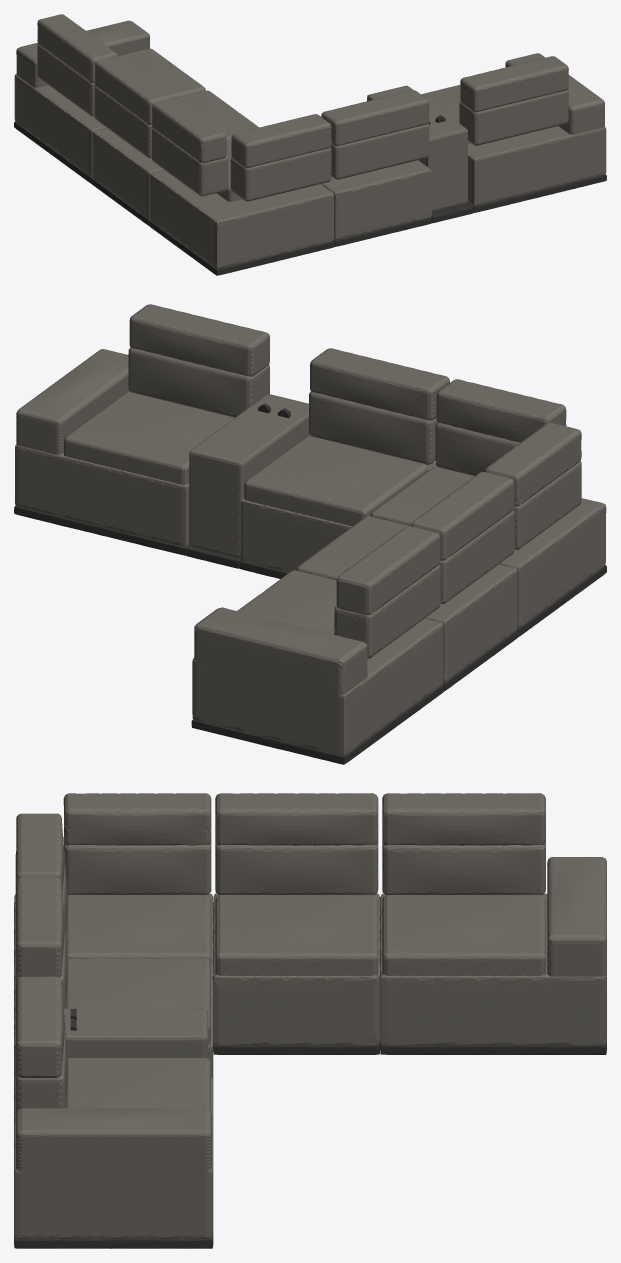
The model's file is redding.glb.
The picture shows the model from 3 angles, top to bottom: view 1: azimuth 30°, elevation 25°; view 2: azimuth 150°, elevation 25°; view 3: azimuth 270°, elevation 25°; orthographic projection. The views are drawn at different scales.
Visible parts, largest first — view 1: upholstery, accent; view 2: upholstery, accent; view 3: upholstery, accent.
Boxes of the visible parts, box(x1,y1,x2,y2) form: upholstery: box(14, 14, 606, 268); accent: box(14, 115, 606, 275); upholstery: box(15, 304, 606, 755); accent: box(14, 403, 606, 764); upholstery: box(14, 793, 606, 1238); accent: box(14, 1008, 606, 1248).
Size of the model in its own units: 3.35 by 1.02 by 3.02.
Materials: 2 (2 with a texture image).
